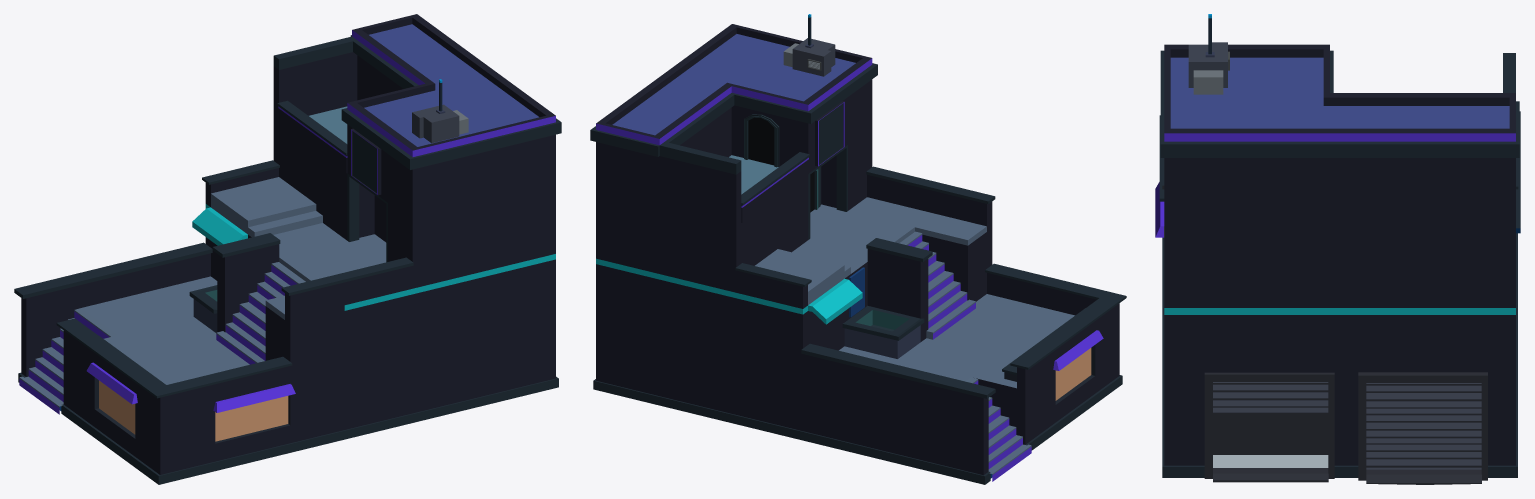
File: Building_Long01.fbx
3 renders of one model, left to right at view 1: azimuth 30°, elevation 25°; view 2: azimuth 150°, elevation 25°; view 3: azimuth 270°, elevation 25°, orthographic. The views are drawn at different scales.
Parts seen in each view (by area): view 1: Radar Guy.001; view 2: Radar Guy.001; view 3: Radar Guy.001, GarageDoor_Full.000, GarageDoor_Top.002.
Boxes of the visible parts, x1,y1,x2,y2 form: Radar Guy.001: (14, 14, 561, 484); Radar Guy.001: (590, 14, 1126, 484); Radar Guy.001: (1155, 14, 1520, 477); GarageDoor_Full.000: (1358, 372, 1487, 484); GarageDoor_Top.002: (1204, 372, 1334, 482).
Size of the model in its own units: 1285 by 949 by 779.
